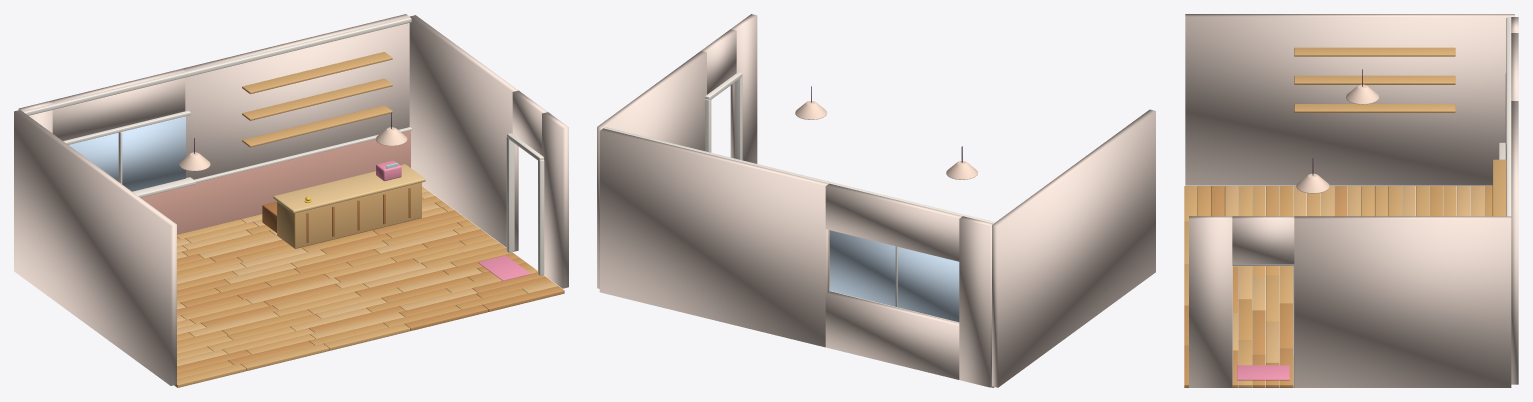
Rendered from shop.glb.
The picture shows the model from 3 angles, left to right: view 1: azimuth 30°, elevation 25°; view 2: azimuth 150°, elevation 25°; view 3: azimuth 270°, elevation 25°; orthographic projection. The views are drawn at different scales.
Visible parts, largest first — view 1: Shop_static; view 2: Shop_static; view 3: Shop_static.
Boxes of the visible parts, bbox=[...] form: Shop_static: bbox=[14, 14, 568, 387]; Shop_static: bbox=[597, 14, 1155, 387]; Shop_static: bbox=[1184, 14, 1518, 387].
Size of the model in its own units: 7.84 by 3.06 by 5.4.
